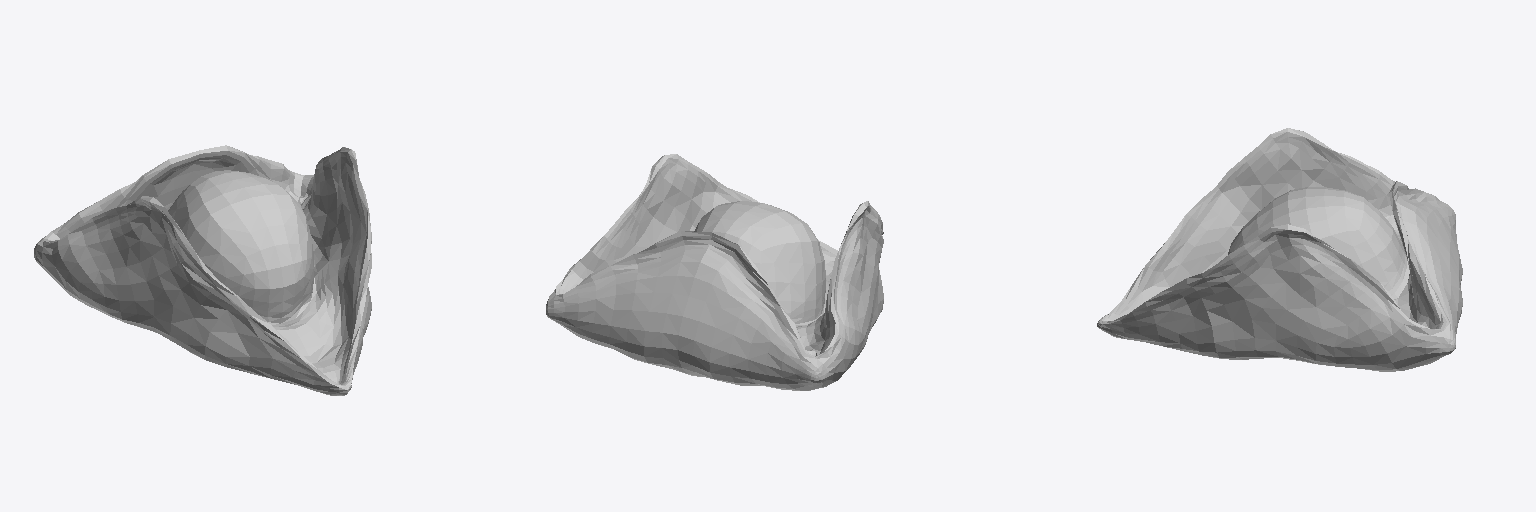
The model's file is hat low poly obj 2k poly.OBJ.
3 views of the same model, side by side, from view 1: azimuth 30°, elevation 25°; view 2: azimuth 150°, elevation 25°; view 3: azimuth 270°, elevation 25° (orthographic).
Parts seen in each view (by area): view 1: Group1; view 2: Group1; view 3: Group1.
Boxes of the visible parts, x1=… form: Group1: x1=34, y1=145, x2=371, y2=395; Group1: x1=546, y1=154, x2=883, y2=390; Group1: x1=1097, y1=128, x2=1462, y2=371.
Bounding box in the file's own units: 3.06 × 1.66 × 3.45.